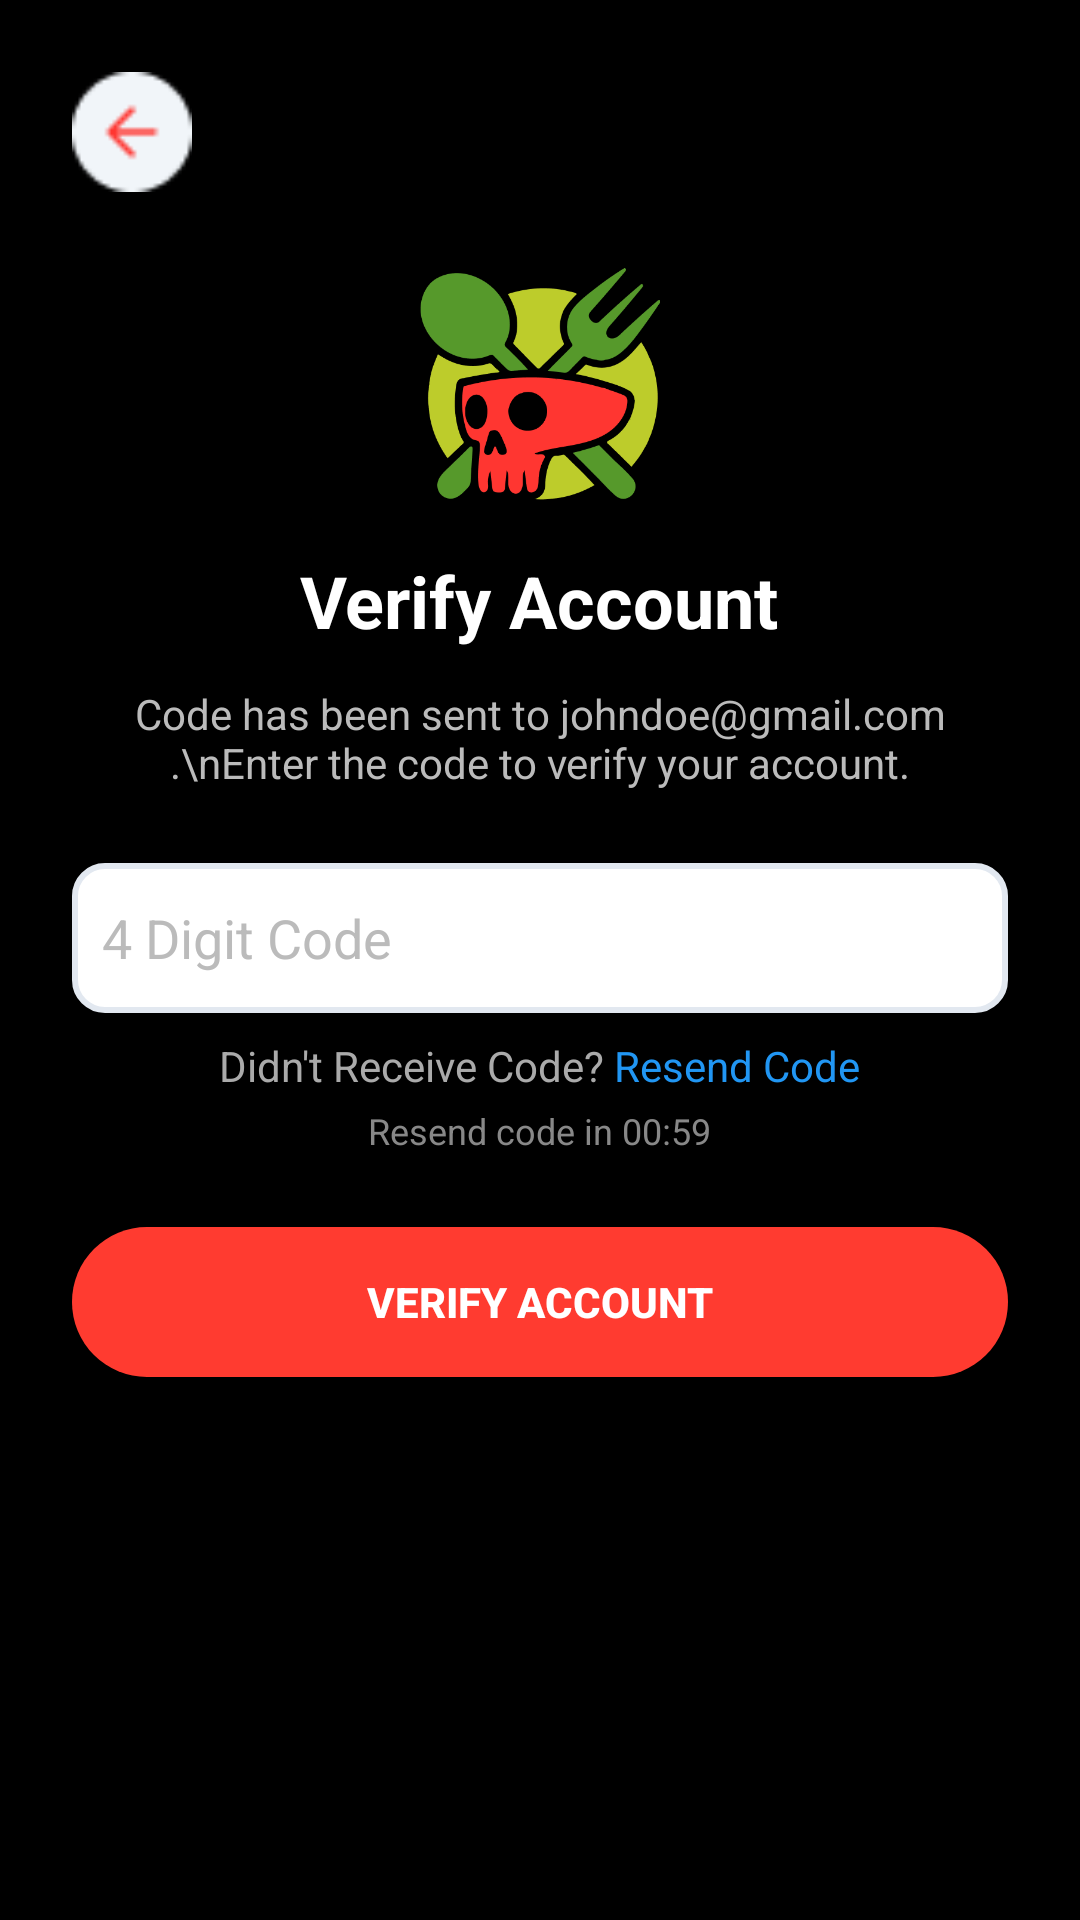

Locate icon controls on the screen. Image size 1080*1920, boxes as (x1=x1, y1=y1, x2=x2, y2=y2).
back: (x1=72, y1=72, x2=192, y2=192)
